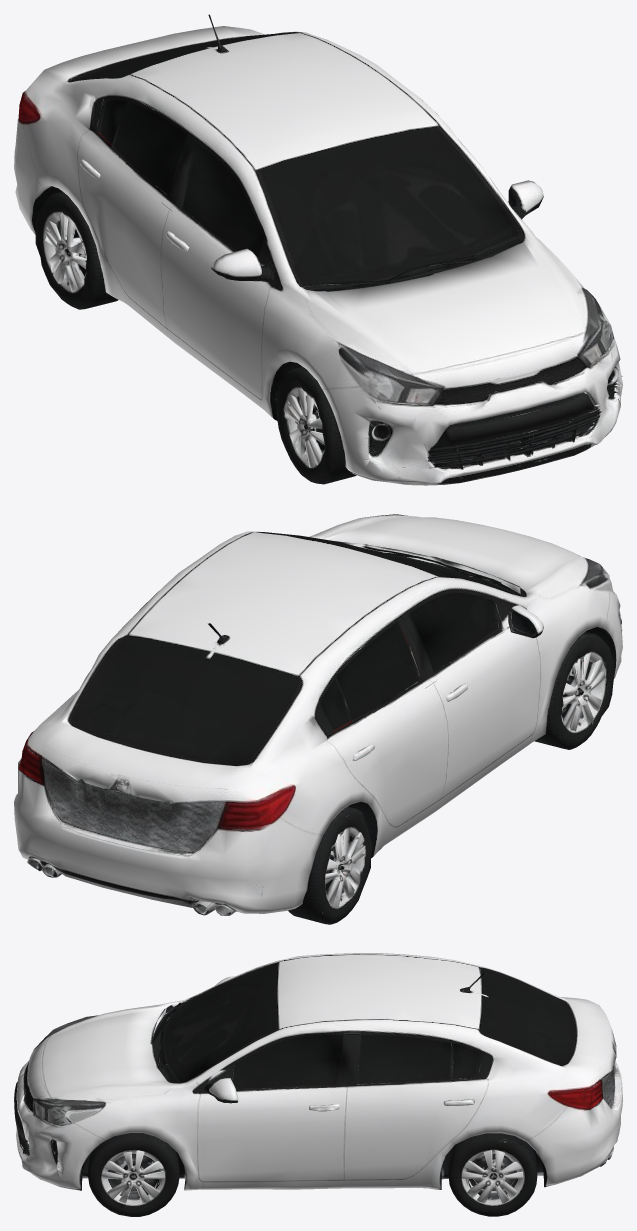
The model's file is kia-rio.glb.
3 renders of one model, top to bottom at view 1: azimuth 30°, elevation 25°; view 2: azimuth 150°, elevation 25°; view 3: azimuth 270°, elevation 25°, orthographic. The views are drawn at different scales.
Size of the model in its own units: 2.04 by 1.56 by 4.39.
Materials: 1 (1 with a texture image).
